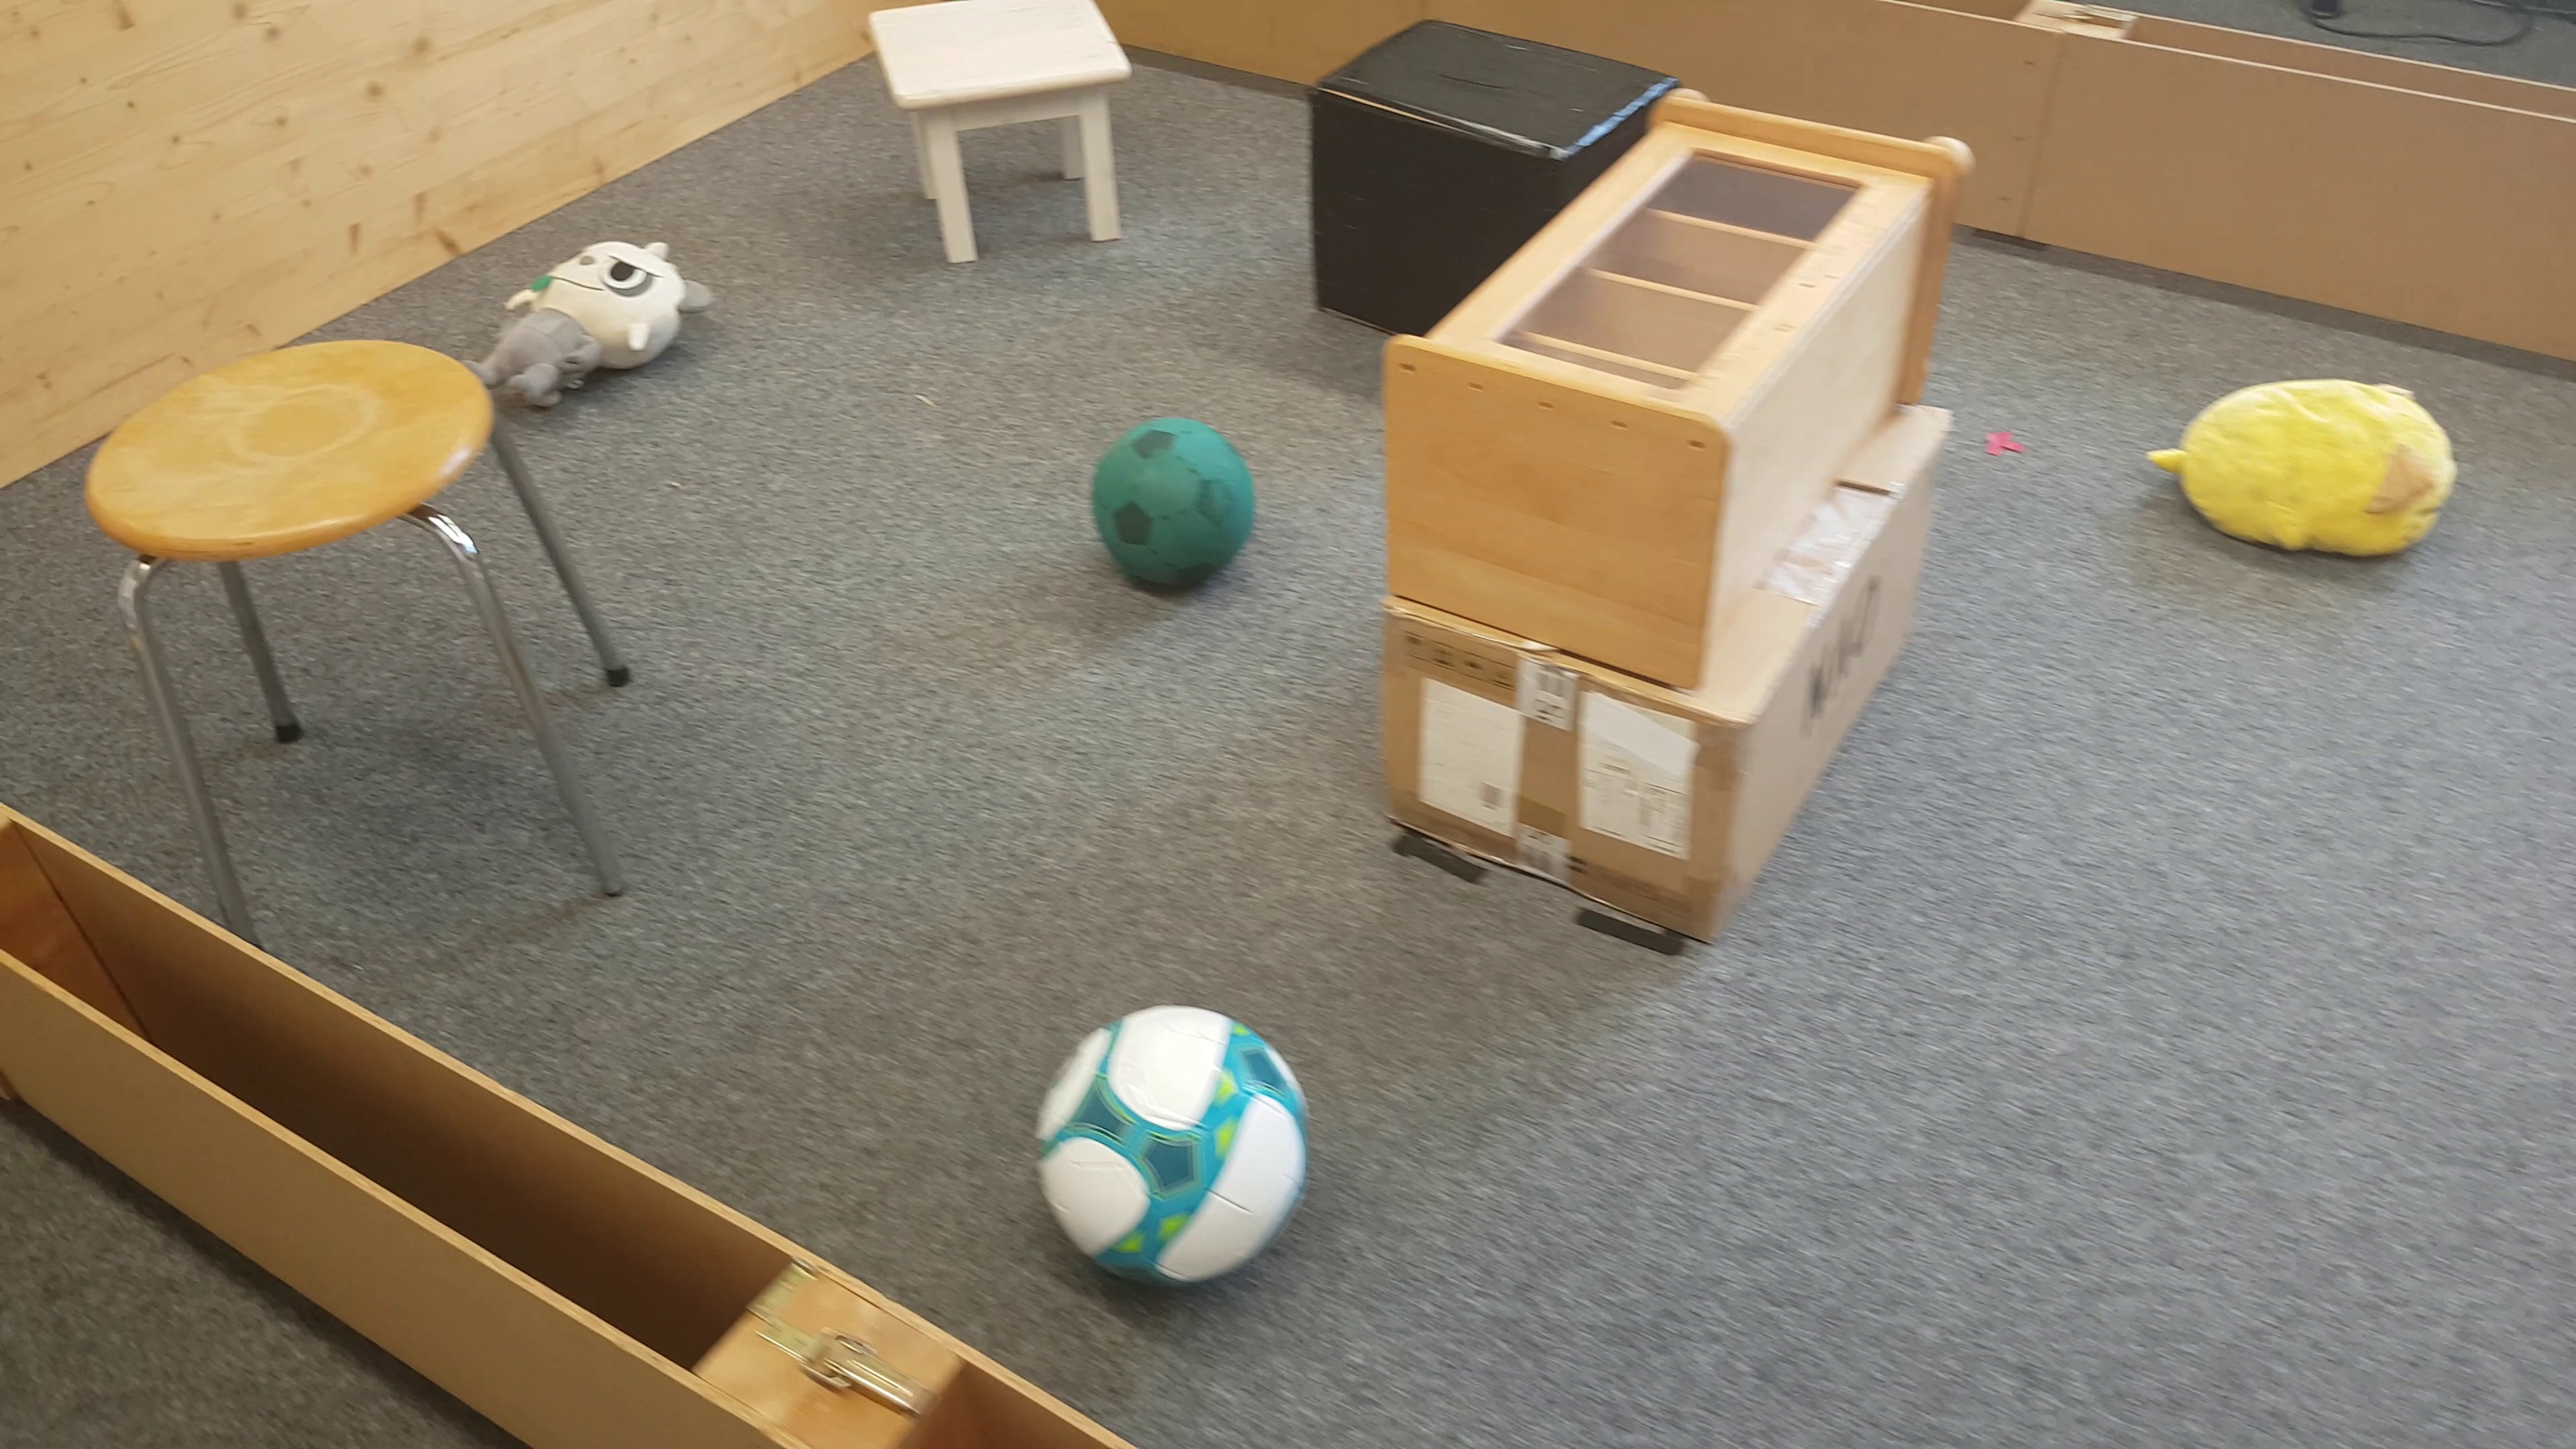grasp: (2155, 379, 2454, 566), (492, 241, 713, 412)
kick: (1031, 1008, 1316, 1288), (1092, 421, 1258, 602)
push: (1316, 16, 1568, 193)
